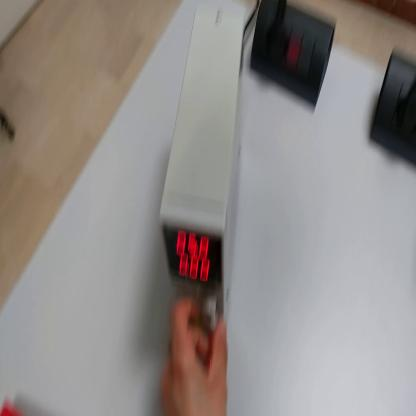hand: (162, 290, 229, 415)
power supply: (154, 10, 244, 365)
register: (2, 402, 23, 416)
socket: (248, 4, 343, 114), (367, 47, 416, 169)
